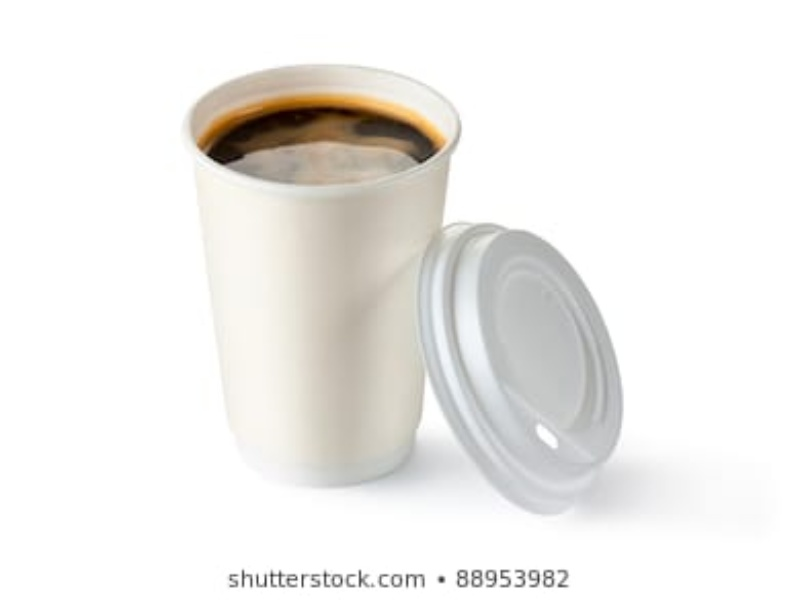coffee-lid: (414, 214, 625, 519)
plastic-cup: (176, 57, 458, 493)
